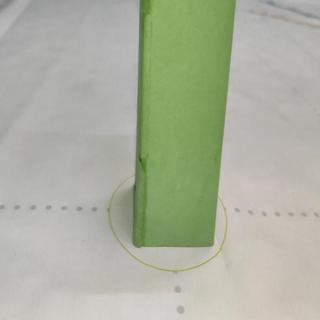greenbox: (138, 1, 236, 249)
